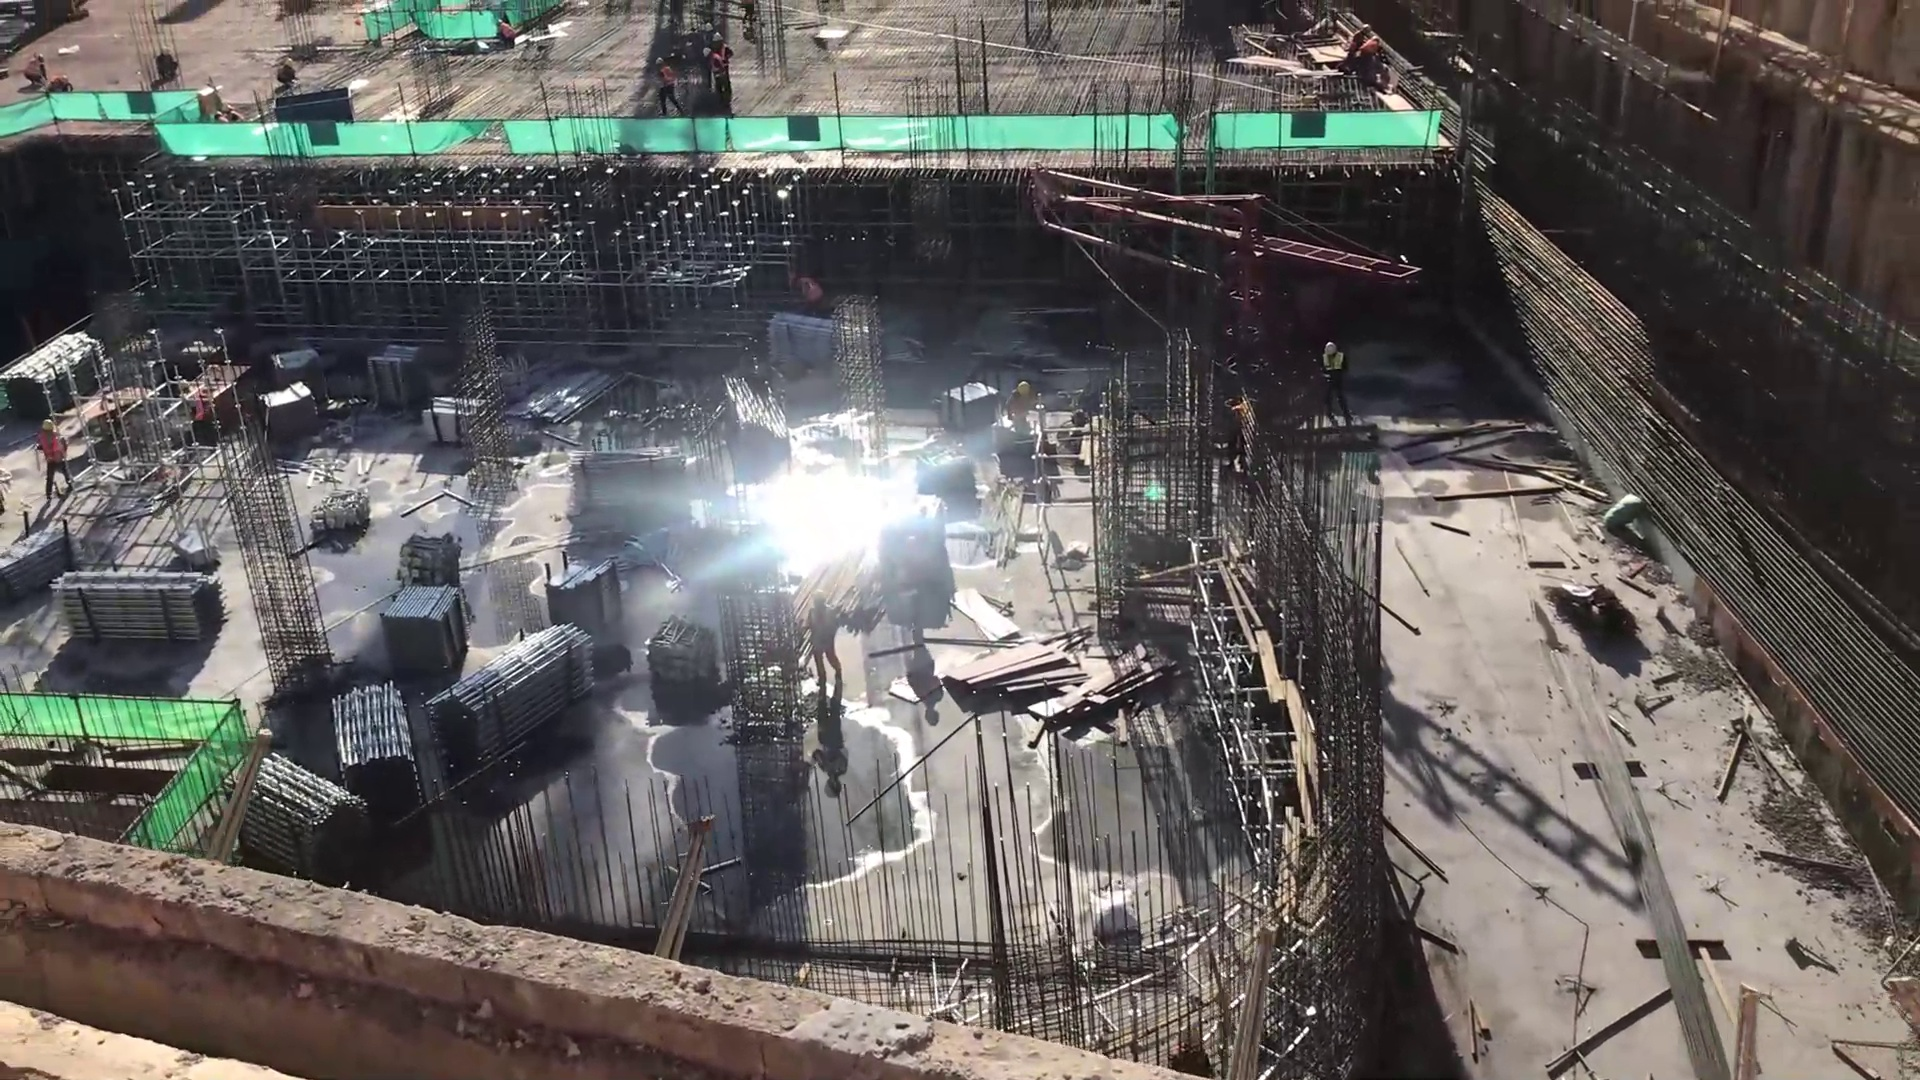scaffold: (415, 618, 597, 770), (37, 572, 232, 665), (315, 673, 427, 827), (365, 574, 495, 665), (371, 520, 485, 597), (539, 542, 626, 637), (628, 601, 711, 695), (419, 397, 512, 465), (367, 342, 455, 406), (15, 342, 100, 392), (301, 487, 389, 534), (258, 373, 335, 422)
